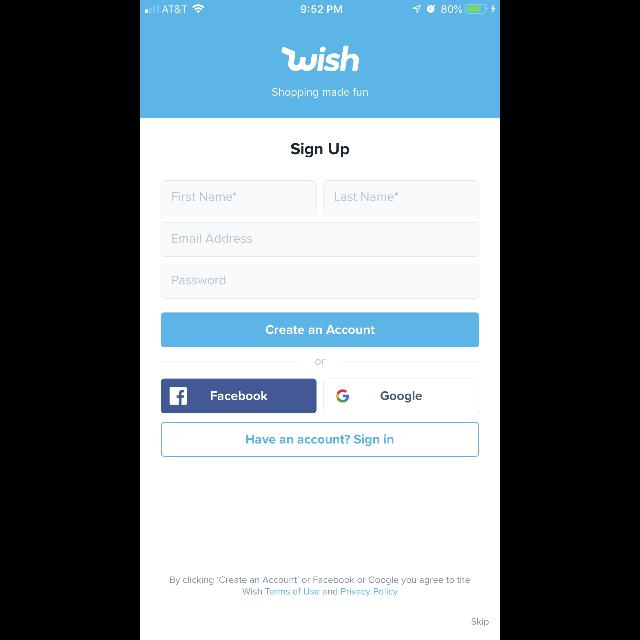image: (282, 45, 358, 71)
input: (161, 222, 479, 258), (161, 264, 479, 298), (324, 180, 478, 216), (162, 180, 316, 216)
text: (170, 576, 470, 596), (272, 88, 368, 98), (291, 142, 349, 158), (172, 234, 252, 243), (172, 192, 236, 202), (336, 192, 398, 202), (172, 276, 225, 284), (472, 618, 488, 626), (316, 359, 324, 365)
textbutton: (161, 422, 479, 458), (161, 312, 479, 348), (324, 378, 478, 414), (162, 378, 316, 414)
uppertaskbar: (140, 0, 500, 14)
